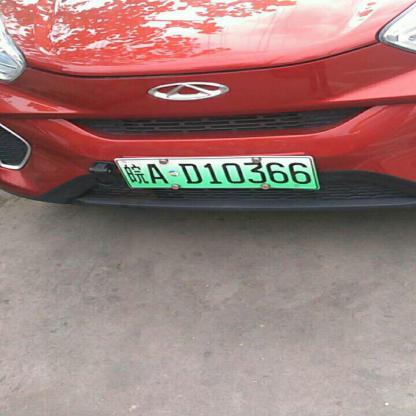lp: (112, 159, 318, 189)
